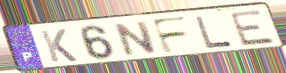6: (78, 23, 118, 61)
E: (227, 9, 278, 48)
F: (150, 15, 192, 55)
K: (38, 28, 80, 64)
L: (193, 15, 235, 50)
N: (114, 19, 159, 58)
